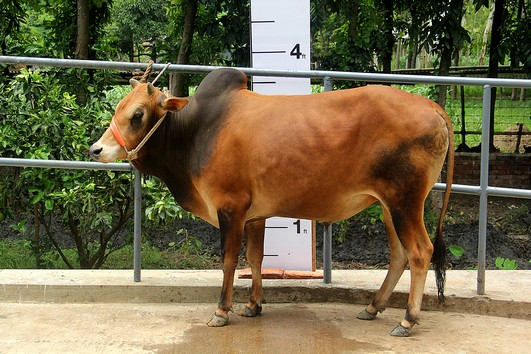cow: (83, 57, 462, 340)
